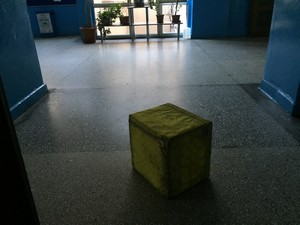cube: (130, 103, 211, 198)
